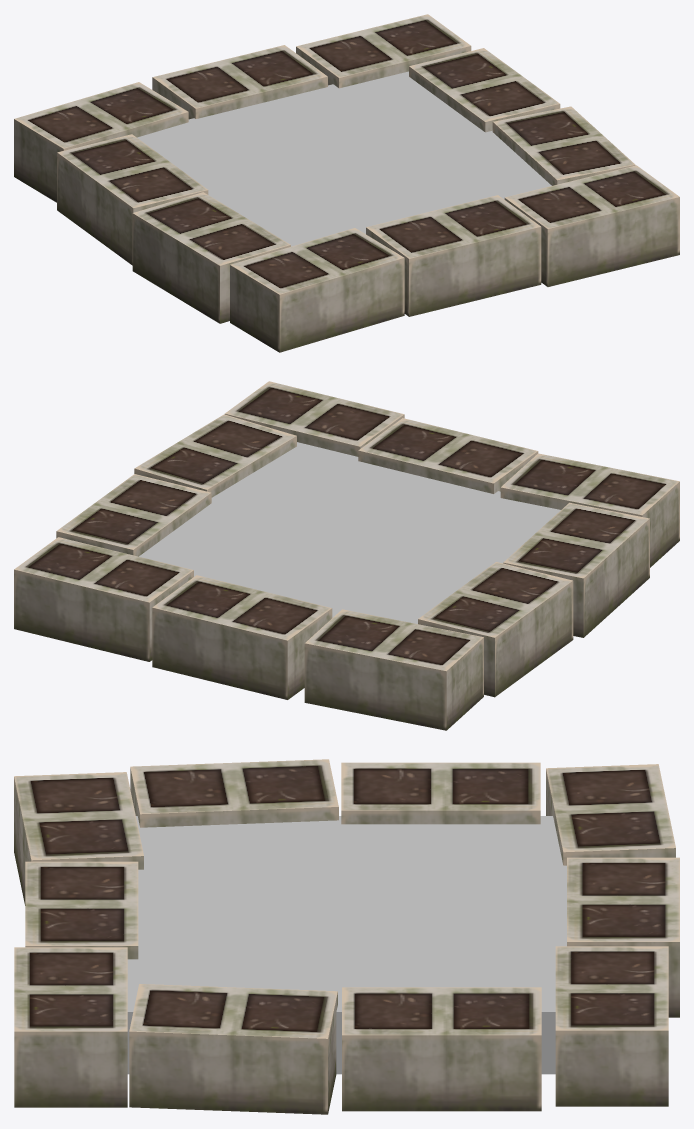
Rendered from raisedBed10.fbx.
3 views of the same model, one above another, from view 1: azimuth 30°, elevation 25°; view 2: azimuth 150°, elevation 25°; view 3: azimuth 270°, elevation 25° (orthographic). The views are drawn at different scales.
Visible parts, largest first — view 1: raisedBed10; view 2: raisedBed10; view 3: raisedBed10.
Boxes of the visible parts, x1=… form: raisedBed10: x1=14, y1=14, x2=679, y2=352; raisedBed10: x1=14, y1=381, x2=679, y2=730; raisedBed10: x1=14, y1=759, x2=679, y2=1114.
Size of the model in its own units: 144 by 18.26 by 145.
